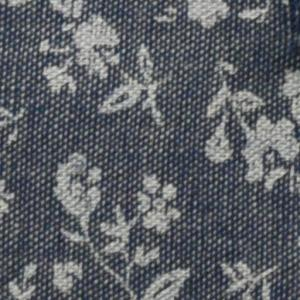Damage: (275, 1, 300, 84)
